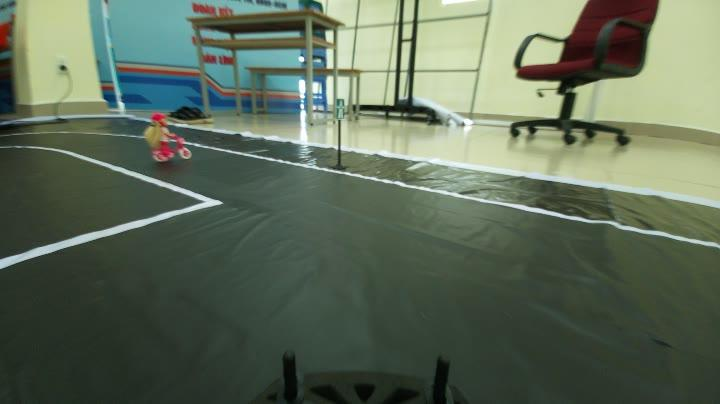pedestrian: (139, 114, 183, 162)
